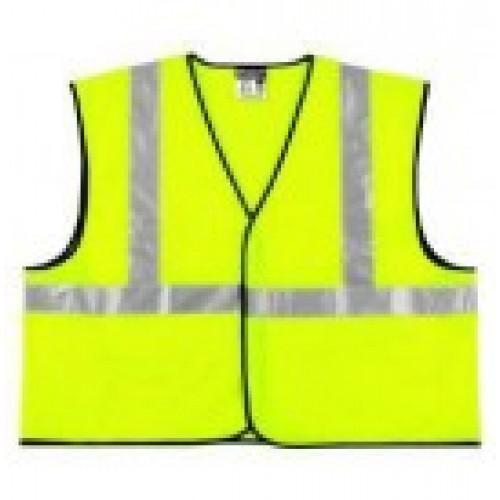vest: (17, 43, 485, 451)
